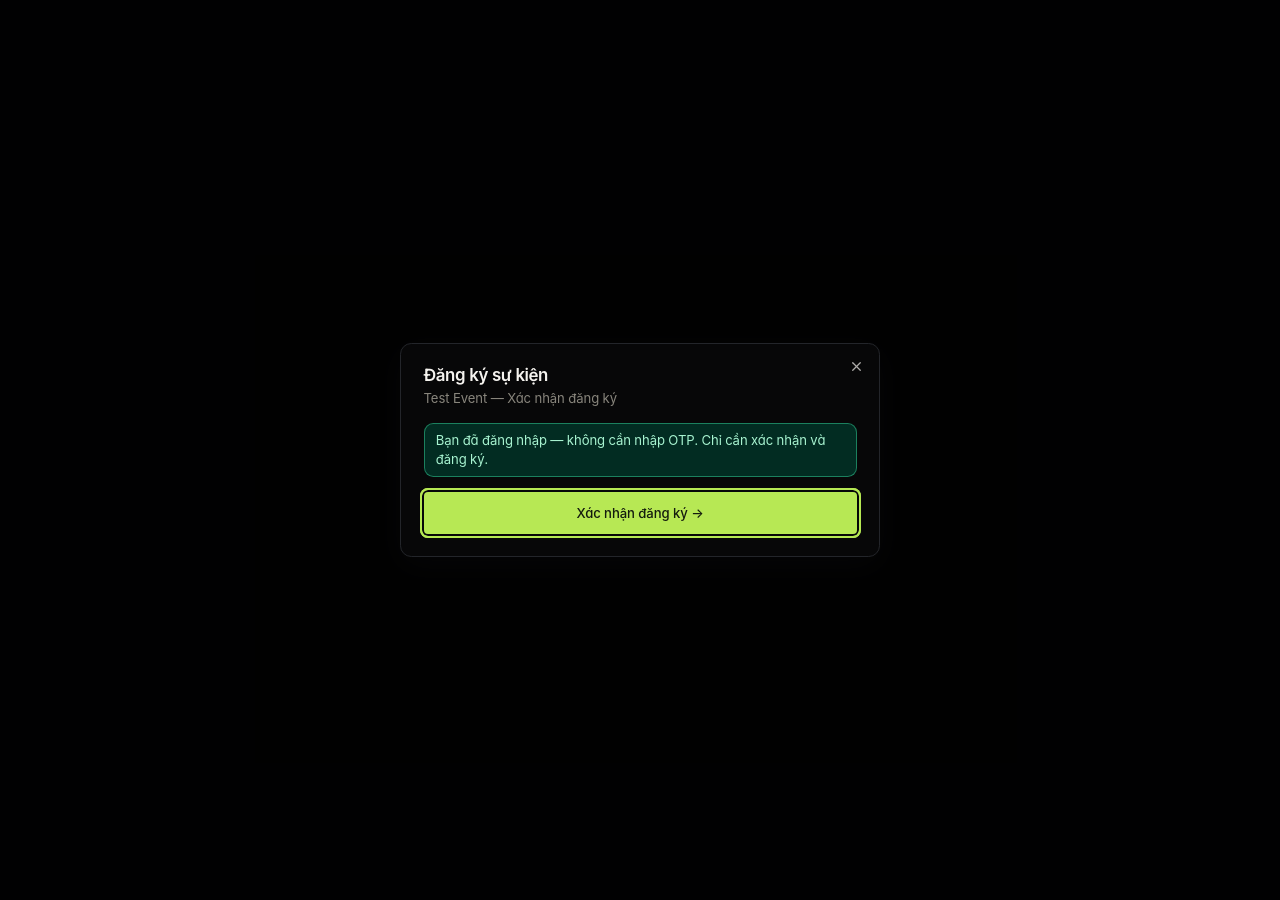
member path › free event: RPC ok → success step, localStorage handle, onSuccess, NO payment order
This screenshot has width=1280, height=900.
Click the button "Xác nhận đăng ký →" at (640, 513), box top-left (424, 492), bottom-right (856, 534)
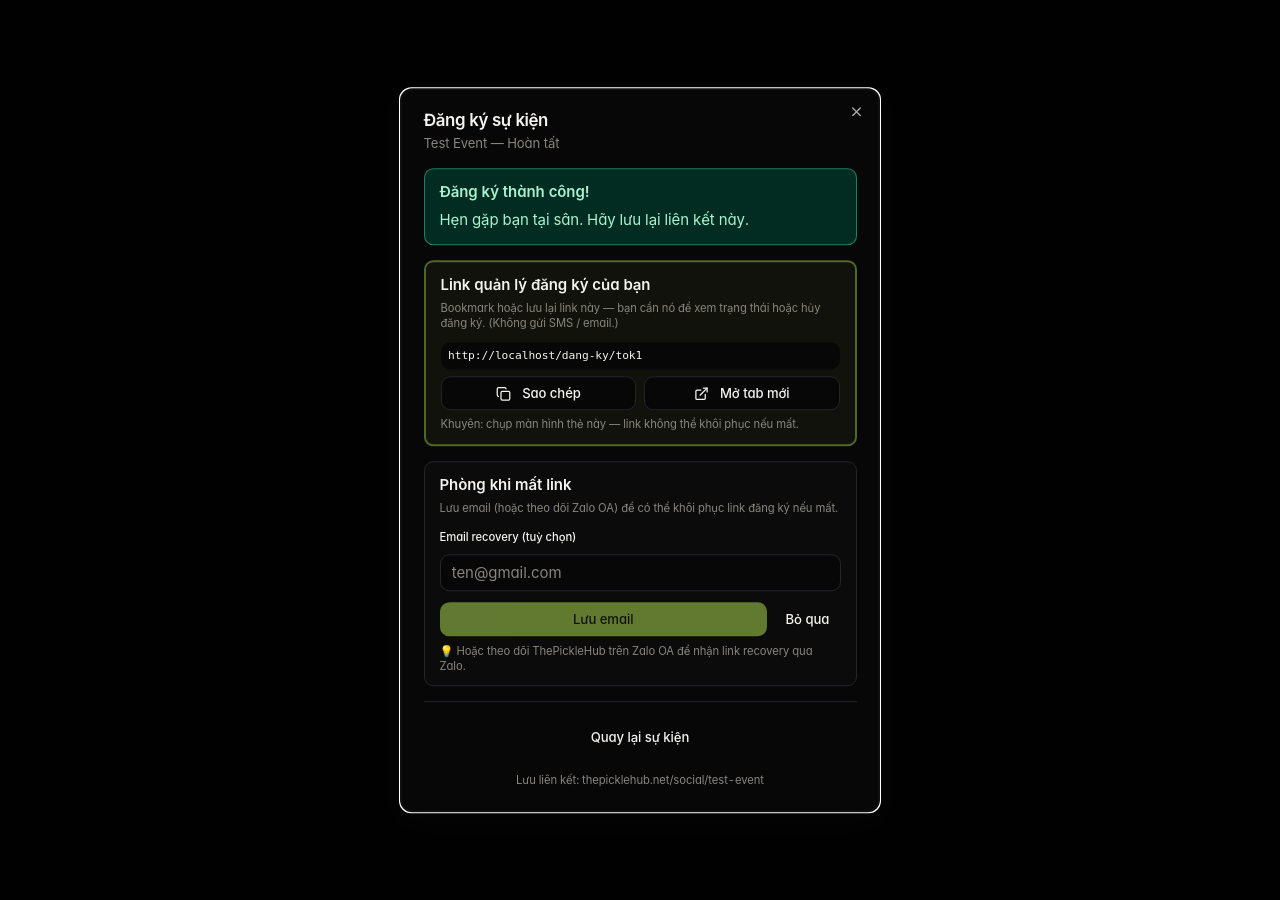
Result: the text "Đăng ký thành công!" is shown at top-left (440, 182), bottom-right (590, 201)
